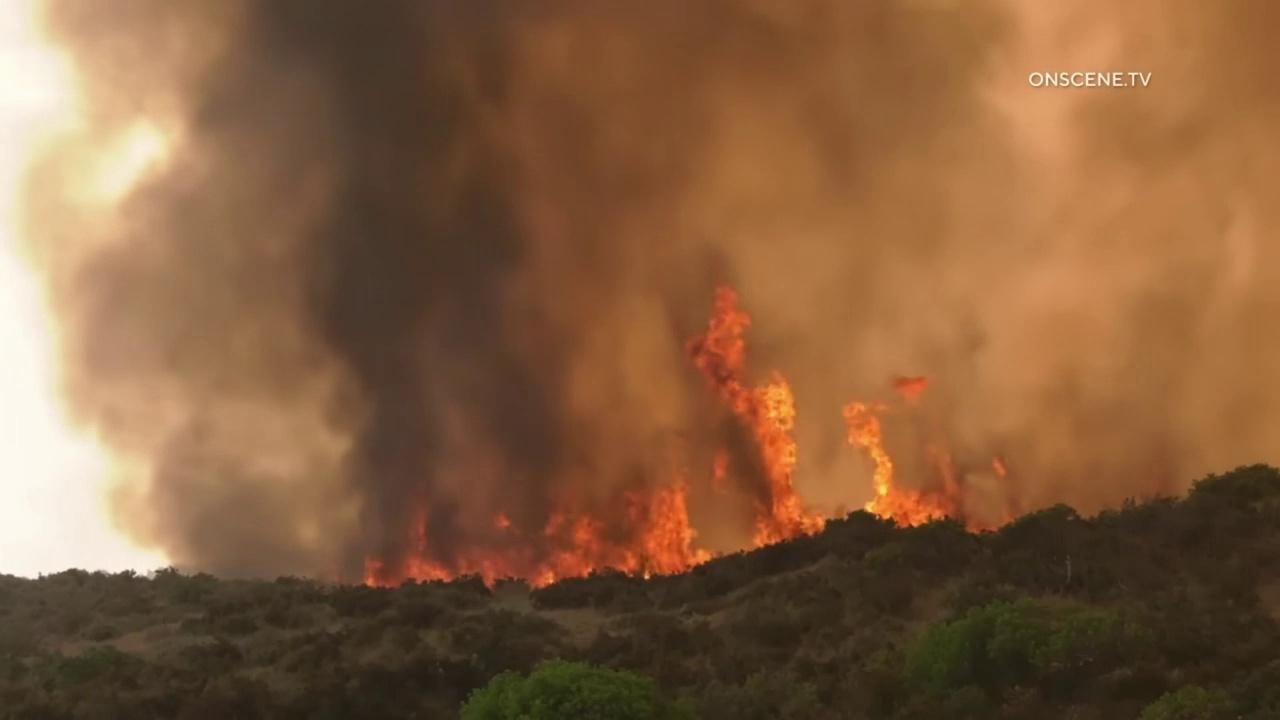fire: (360, 447, 732, 591), (682, 284, 828, 572), (840, 374, 1011, 536)
smoke: (9, 0, 1280, 590)
